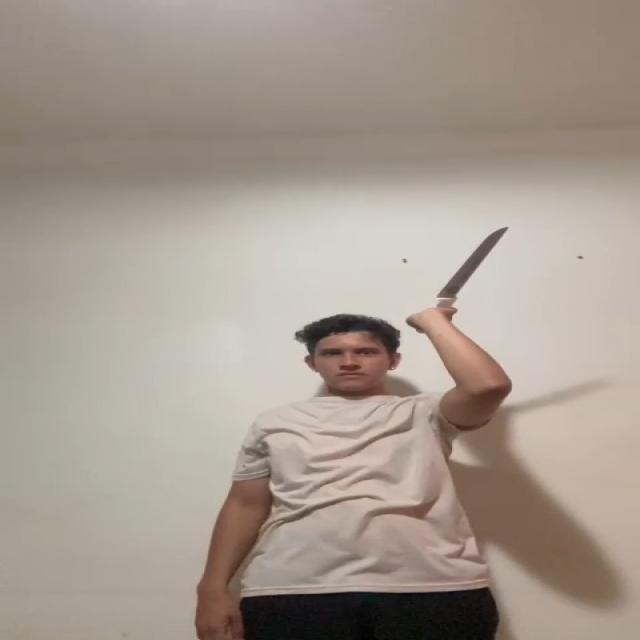knife: (446, 228, 506, 298)
